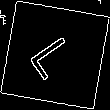L_NE: (25, 28, 85, 82)
